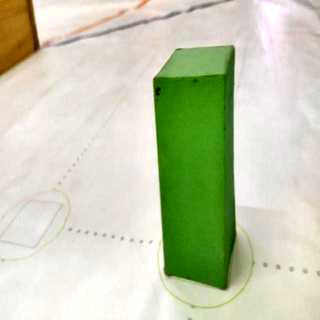greenbox: (152, 44, 234, 290)
